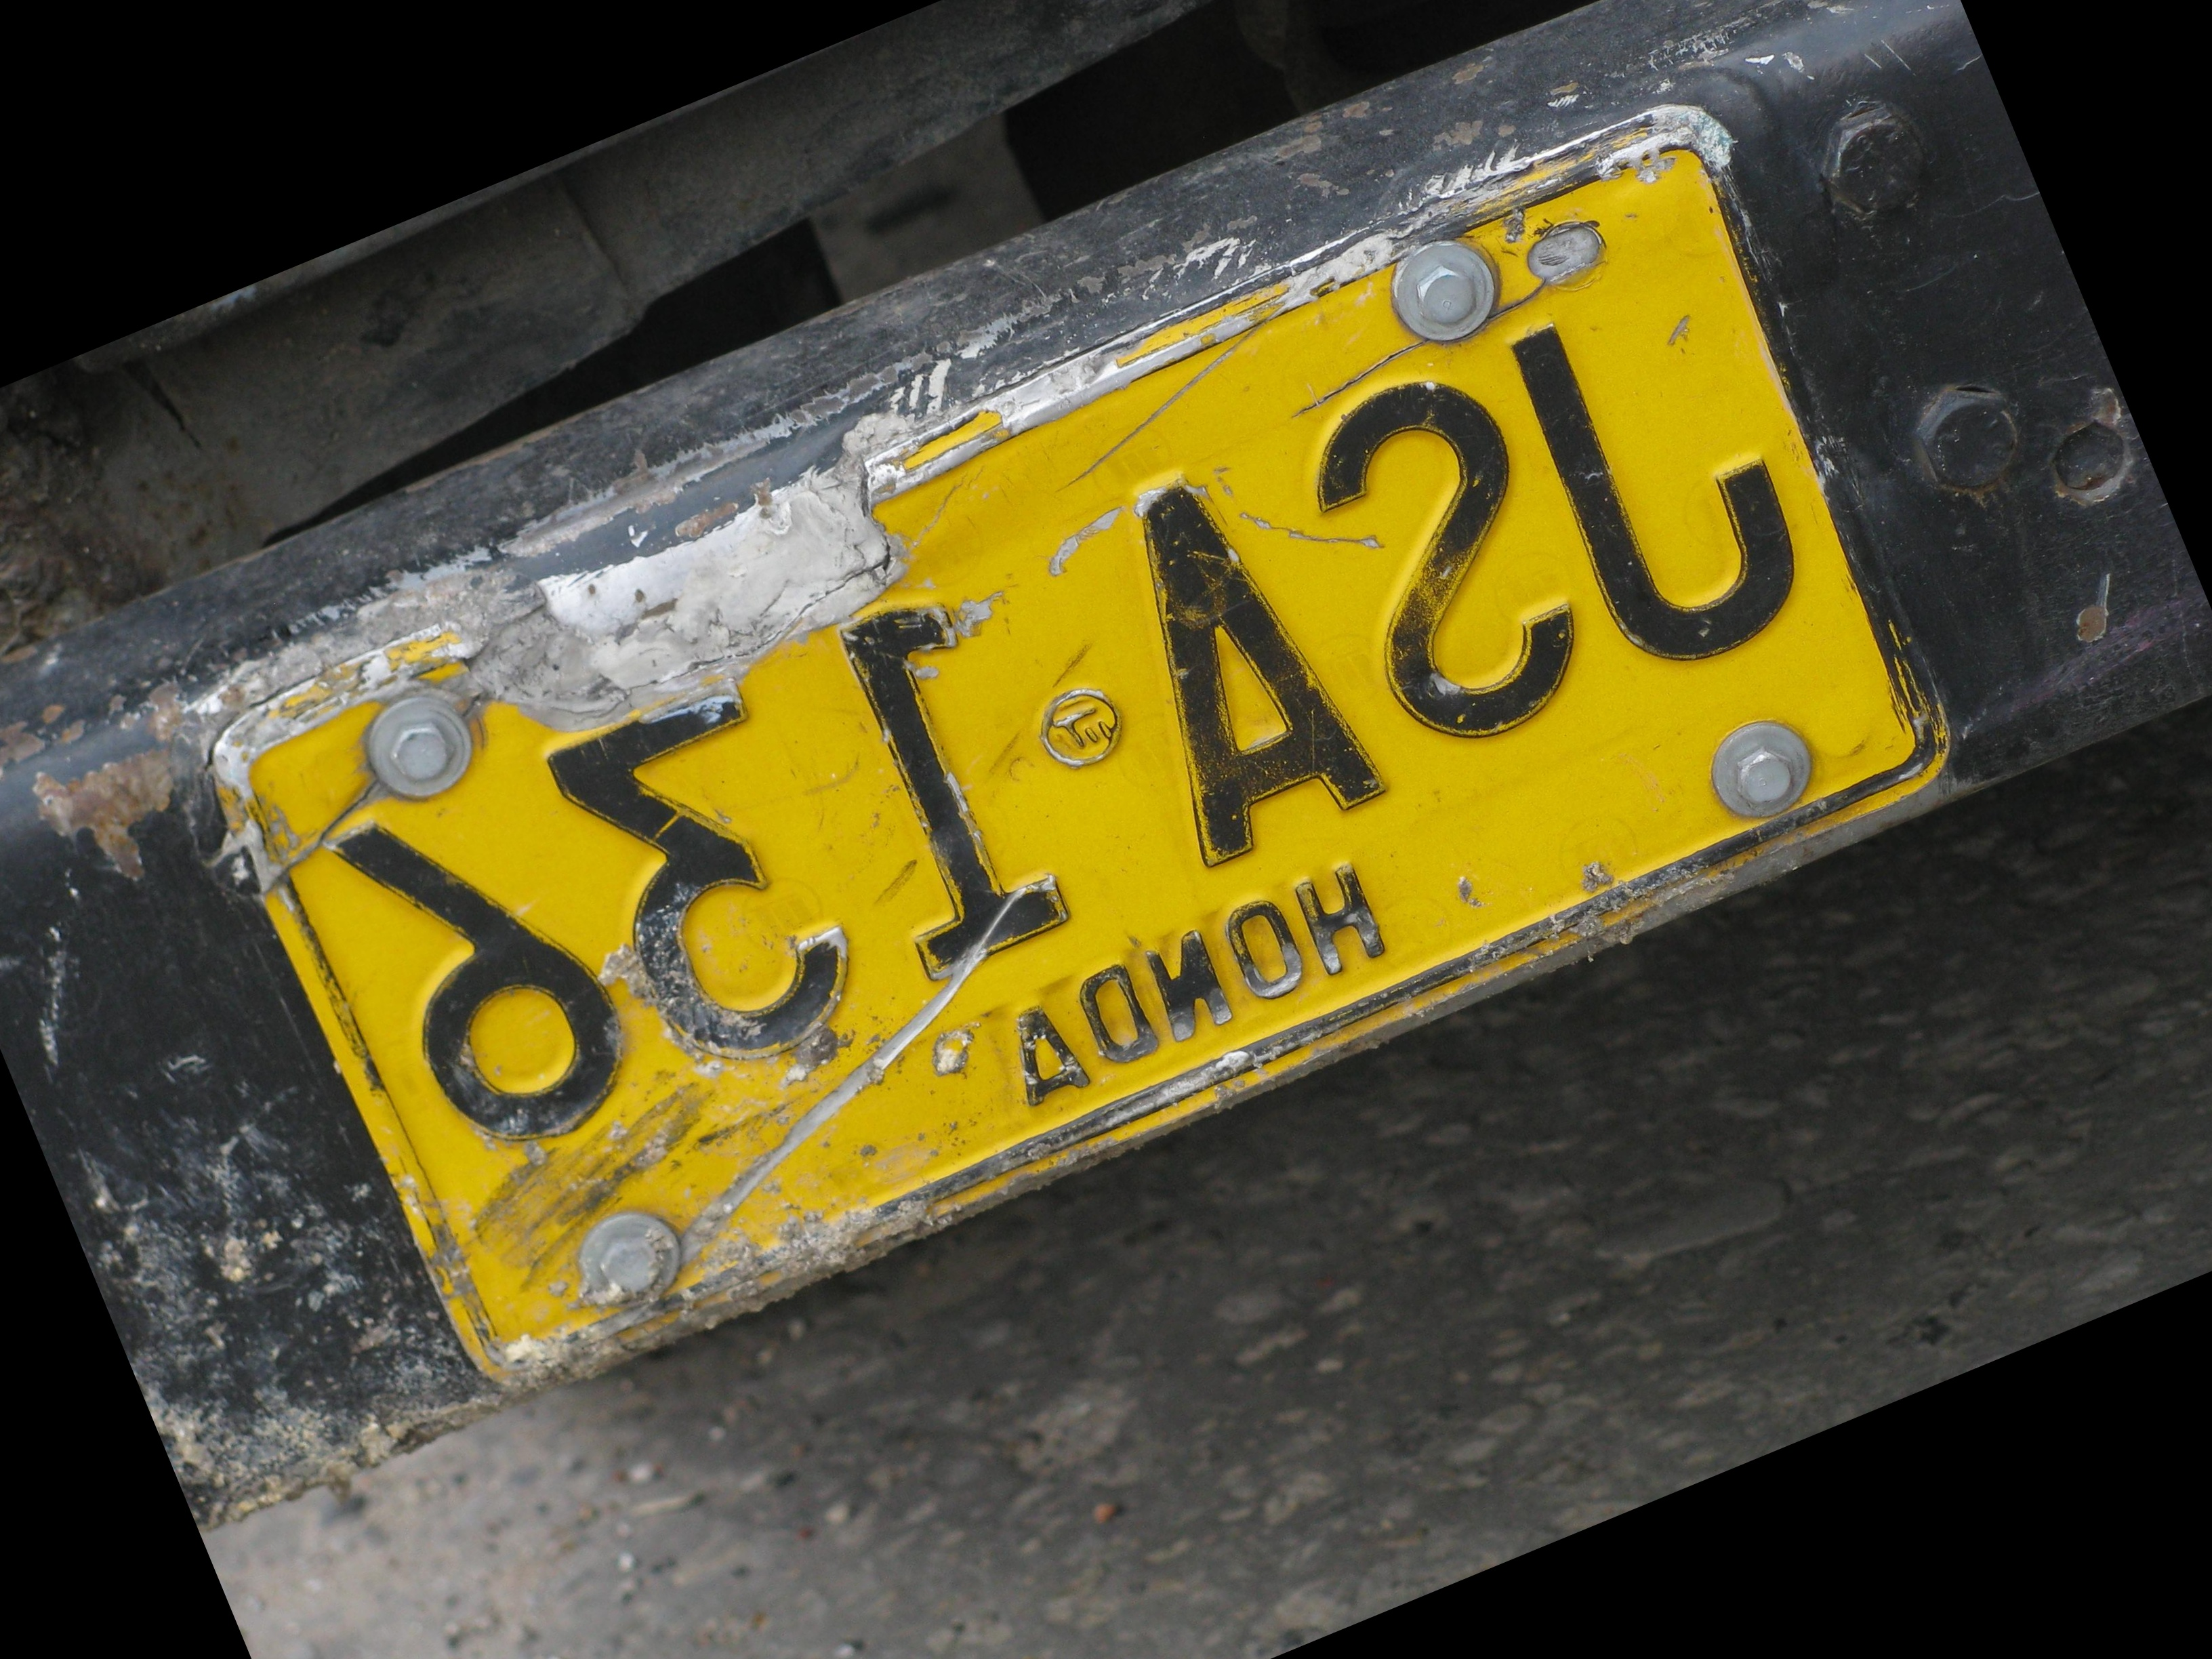placas: (131, 30, 2024, 1458)
